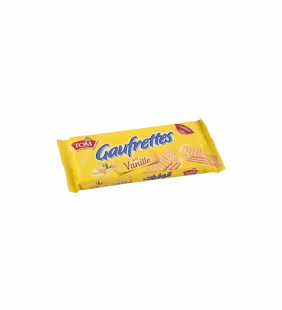TOM: (51, 107, 237, 205)
